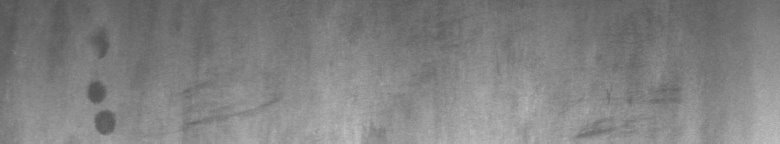fi: (83, 31, 120, 136)
